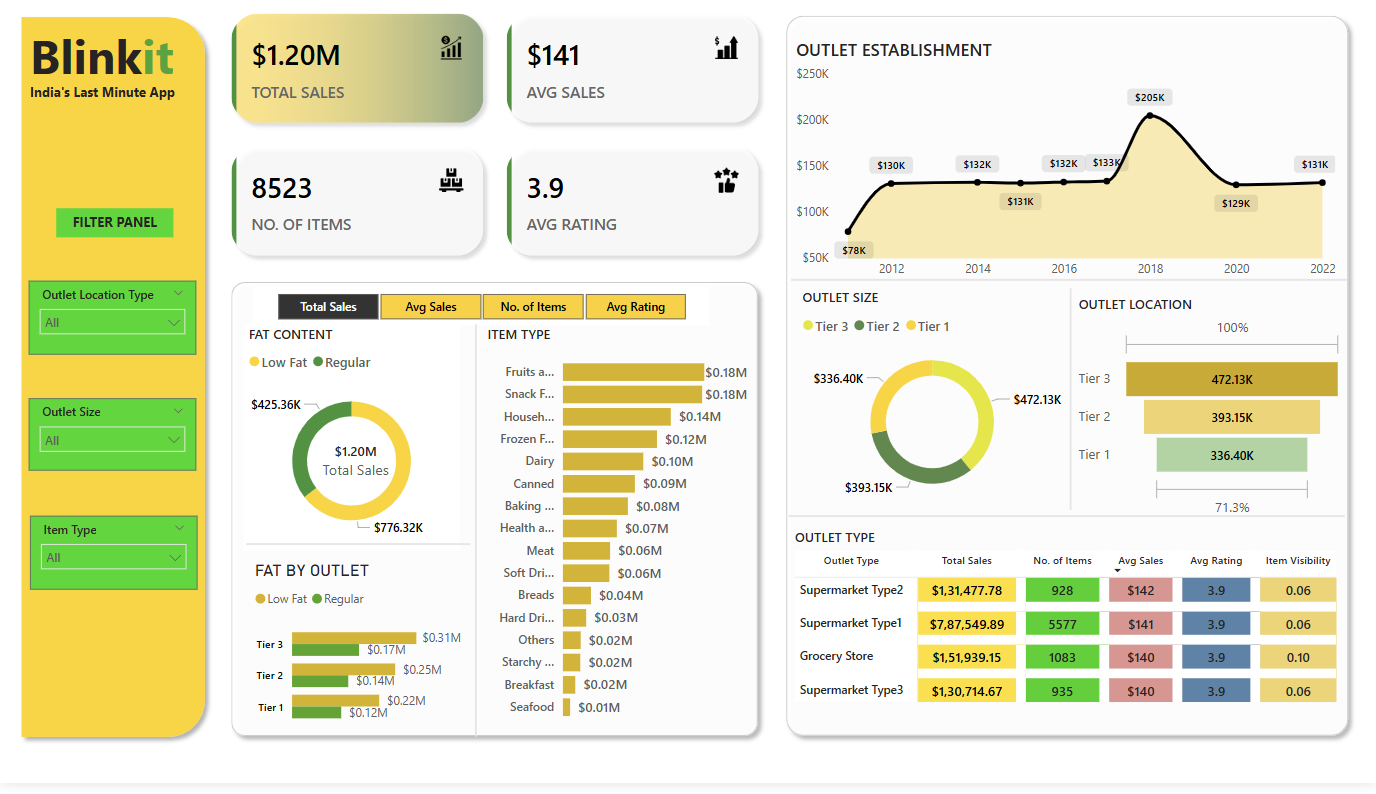

This screenshot's page, from the dashboard's own definition file:
{"tool":"powerbi","page":{"name":"Page 1","canvas":[1400,800],"ordinal":0},"visuals":[{"type":"shape","box":[12.7,11.1,205,750],"z":0},{"type":"textbox","box":[25.4,22.3,179.6,79.5],"z":1000},{"type":"textbox","box":[265.4,699.4,384.7,62],"z":2000},{"type":"textbox","box":[25.5,83.1,386.1,46.9],"z":3000},{"type":"cardVisual","fields":{"Data":["BlinkIT Grocery Data.Total Sales","BlinkIT Grocery Data.Avg Sales","BlinkIT Grocery Data.No. of Items","BlinkIT Grocery Data.Avg Rating"]},"box":[219.3,0,570.6,281.3],"z":4000},{"type":"shape","box":[226.5,281.5,553.6,479.9],"z":5000},{"type":"donutChart","title":"FAT CONTENT","fields":{"Y":["BlinkIT Grocery Data.Total Sales"],"Category":["BlinkIT Grocery Data.Item Fat Content"]},"box":[248,333.8,219.8,230.6],"z":6000},{"type":"slicer","fields":{"Values":["Metrics.Metrics"]},"box":[257.4,294.9,465.1,38.9],"z":7000},{"type":"cardVisual","fields":{"Data":["BlinkIT Grocery Data.Total Sales"]},"box":[248,422.8,228.9,98.5],"z":8000},{"type":"clusteredBarChart","title":"FAT BY OUTLET","fields":{"Y":["BlinkIT Grocery Data.Total Sales"],"Category":["BlinkIT Grocery Data.Outlet Location Type"],"Series":["BlinkIT Grocery Data.Item Fat Content"]},"box":[254.7,573.7,219.8,179.6],"z":9000},{"type":"shape","box":[250.7,549.6,227.9,14.7],"z":10000},{"type":"shape","box":[478.6,333.8,12.1,419.6],"z":11000},{"type":"barChart","title":"ITEM TYPE","fields":{"Y":["BlinkIT Grocery Data.Total Sales"],"Category":["BlinkIT Grocery Data.Item Type"]},"box":[490.6,333.8,274.8,412.9],"z":12000},{"type":"shape","box":[790.9,10.7,589.8,750.7],"z":13000},{"type":"lineChart","title":"OUTLET ESTABLISHMENT","fields":{"Category":["BlinkIT Grocery Data.Outlet Establishment Year"],"Y":["BlinkIT Grocery Data.Total Sales"]},"box":[805.6,41.6,559,253.4],"z":14000},{"type":"donutChart","title":"OUTLET SIZE","fields":{"Y":["BlinkIT Grocery Data.Total Sales"],"Category":["BlinkIT Grocery Data.Outlet Location Type"]},"box":[811,296.2,274.8,225.2],"z":15000},{"type":"funnel","title":"OUTLET LOCATION","fields":{"Y":["Sum(BlinkIT Grocery Data.Sales)"],"Category":["BlinkIT Grocery Data.Outlet Location Type"]},"box":[1092.5,303,278.8,231.9],"z":16000},{"type":"shape","box":[805.6,281.5,565.7,13.4],"z":17000},{"type":"shape","box":[803,521.5,565.7,13.4],"z":18000},{"type":"shape","box":[1085.8,296.2,6.7,225.2],"z":19000},{"type":"pivotTable","title":"OUTLET TYPE","fields":{"Rows":["BlinkIT Grocery Data.Outlet Type"],"Values":["BlinkIT Grocery Data.Total Sales","BlinkIT Grocery Data.No. of Items","BlinkIT Grocery Data.Avg Sales","BlinkIT Grocery Data.Avg Rating","Avg(BlinkIT Grocery Data.Item Visibility)"]},"box":[804.3,540.2,568.4,190.3],"z":20000},{"type":"slicer","fields":{"Values":["BlinkIT Grocery Data.Outlet Location Type"]},"box":[29.5,288.2,170.2,75.1],"z":20001},{"type":"slicer","fields":{"Values":["BlinkIT Grocery Data.Outlet Size"]},"box":[29.5,408.8,170.2,73.7],"z":20002},{"type":"slicer","fields":{"Values":["BlinkIT Grocery Data.Item Type"]},"box":[30.8,528.2,170.2,75.1],"z":20003},{"type":"textbox","box":[57.6,214.5,119.3,29.5],"z":20004}]}

Visuals, with their boxes in screenshot pixels (x1, y1, x2, y2), scaled from the page's 1400x800 canvas onto the 1376x794 screenshot:
shape: [12, 11, 214, 755]
textbox: [25, 22, 201, 101]
textbox: [261, 694, 639, 756]
textbox: [25, 82, 405, 129]
cardVisual - BlinkIT Grocery Data.Total Sales x BlinkIT Grocery Data.Avg Sales: [216, 0, 776, 279]
shape: [223, 279, 767, 756]
"FAT CONTENT" donutChart: [244, 331, 460, 560]
slicer - Metrics.Metrics: [253, 293, 710, 331]
cardVisual - BlinkIT Grocery Data.Total Sales: [244, 420, 469, 517]
"FAT BY OUTLET" clusteredBarChart: [250, 569, 466, 748]
shape: [246, 545, 470, 560]
shape: [470, 331, 482, 748]
"ITEM TYPE" barChart: [482, 331, 752, 741]
shape: [777, 11, 1357, 756]
"OUTLET ESTABLISHMENT" lineChart: [792, 41, 1341, 293]
"OUTLET SIZE" donutChart: [797, 294, 1067, 517]
"OUTLET LOCATION" funnel: [1074, 301, 1348, 531]
shape: [792, 279, 1348, 293]
shape: [789, 518, 1345, 531]
shape: [1067, 294, 1074, 517]
"OUTLET TYPE" pivotTable: [791, 536, 1349, 725]
slicer - BlinkIT Grocery Data.Outlet Location Type: [29, 286, 196, 361]
slicer - BlinkIT Grocery Data.Outlet Size: [29, 406, 196, 479]
slicer - BlinkIT Grocery Data.Item Type: [30, 524, 198, 599]
textbox: [57, 213, 174, 242]
